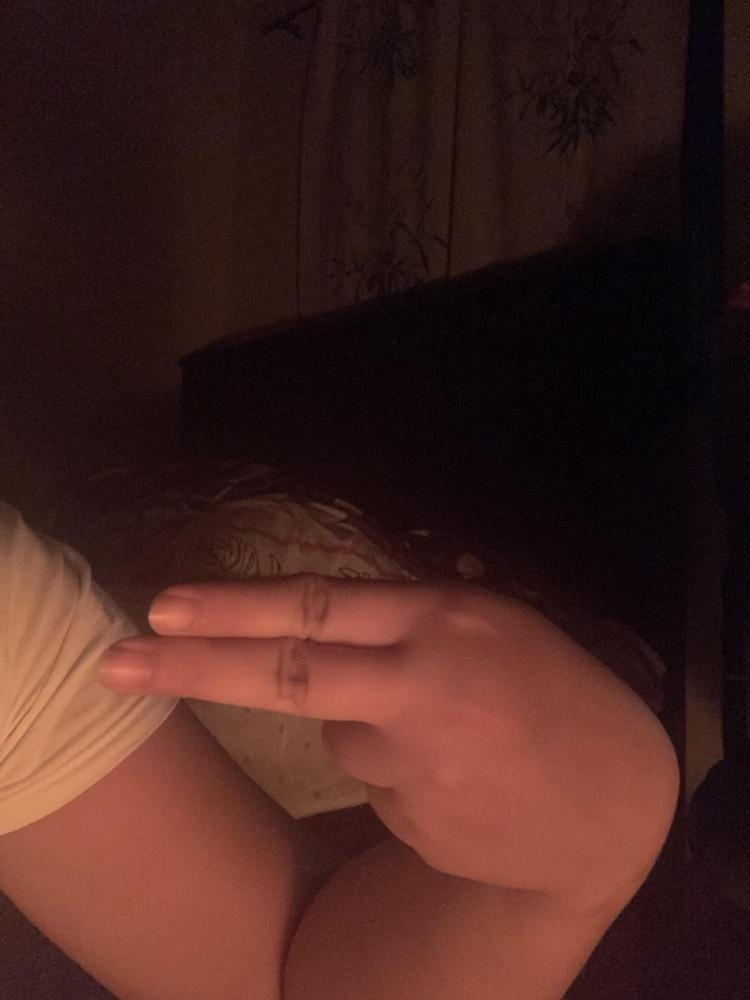h: (93, 575, 680, 896)
